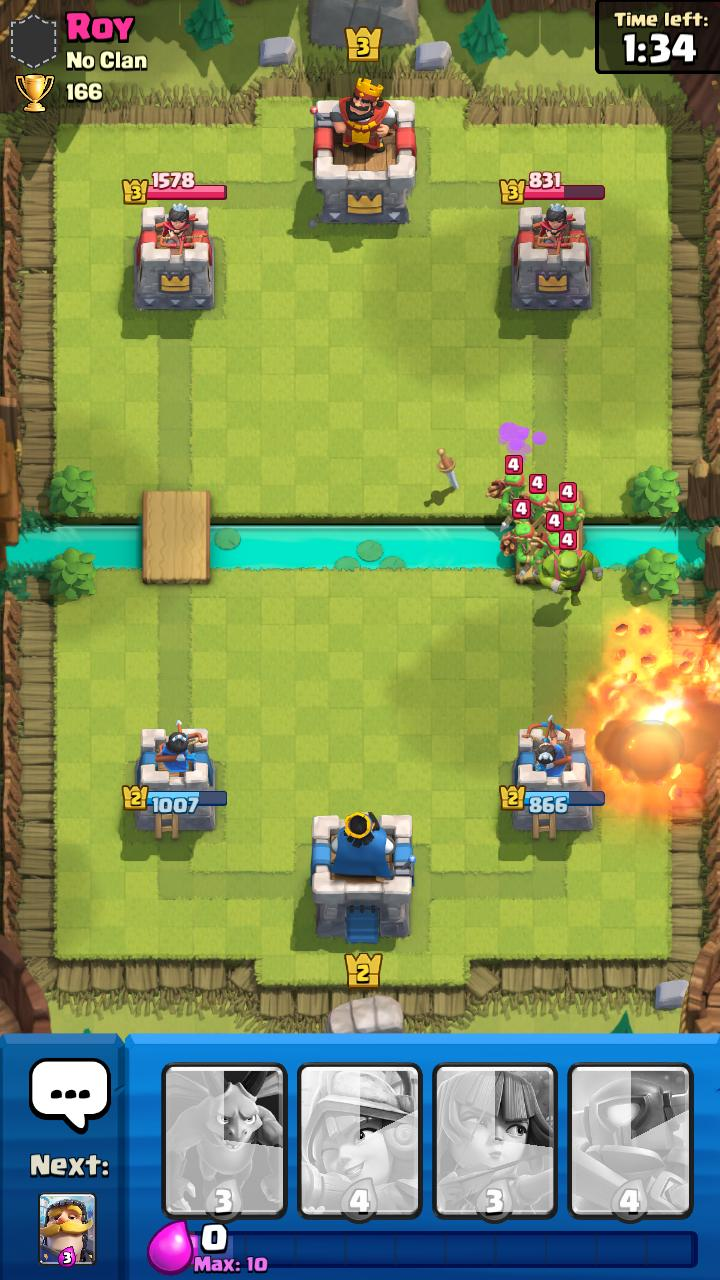enemy: (539, 530, 603, 606), (501, 499, 546, 567), (486, 455, 531, 513), (506, 474, 551, 531), (529, 511, 570, 571), (543, 482, 586, 532)
